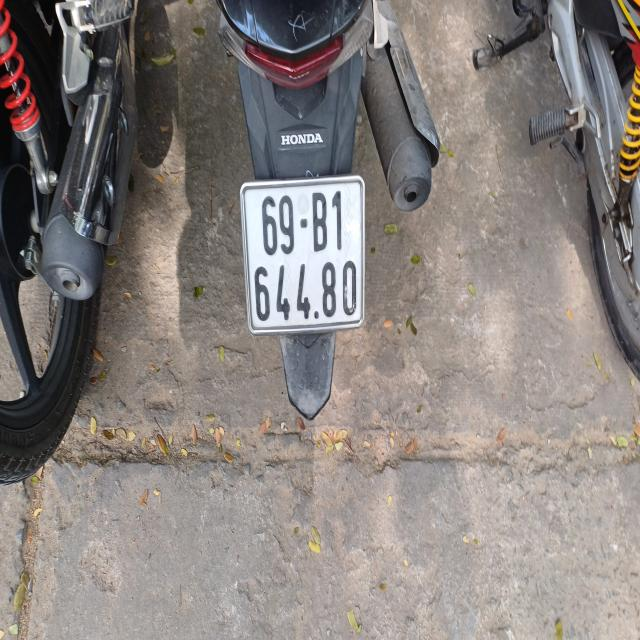0: (342, 260, 359, 317)
1: (329, 190, 344, 250)
4: (297, 261, 312, 326), (276, 265, 291, 324)
6: (262, 193, 277, 257), (253, 266, 269, 324)
8: (322, 259, 337, 319)
9: (278, 194, 295, 256)
B: (310, 192, 330, 254)
